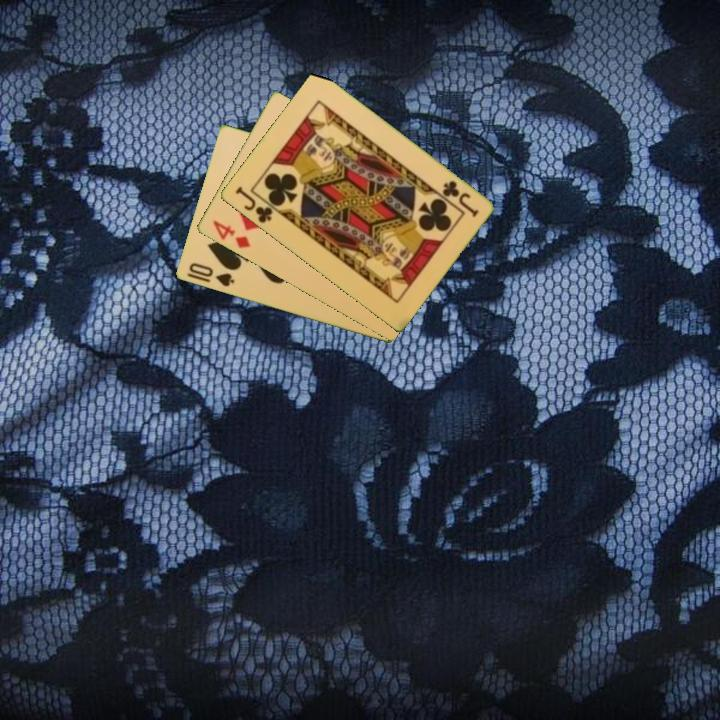10s: (185, 259, 237, 290)
4d: (209, 217, 253, 251)
Jc: (231, 182, 275, 226), (438, 177, 481, 220)
